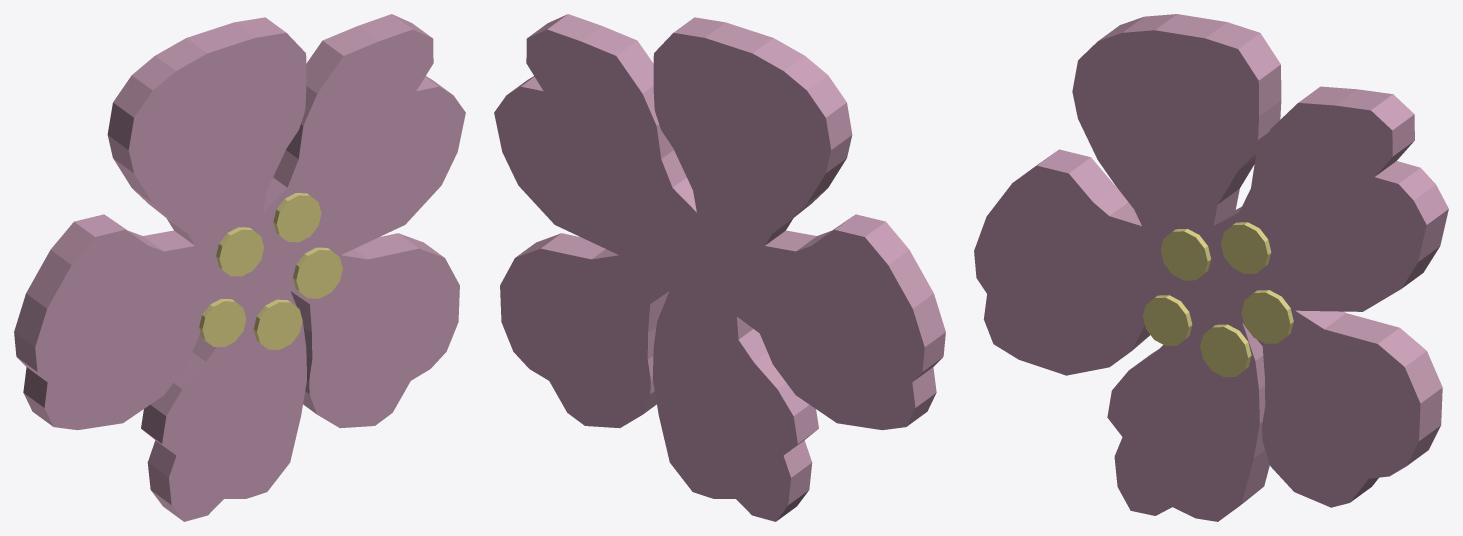
Rendered from Sakura_1.fbx.
3 views of the same model, side by side, from view 1: azimuth 30°, elevation 25°; view 2: azimuth 150°, elevation 25°; view 3: azimuth 330°, elevation 25° (orthographic). The views are drawn at different scales.
Parts seen in each view (by area): view 1: pPlane6, pCylinder3, pCylinder4, pCylinder1, pCylinder2, pCylinder5; view 2: pPlane6; view 3: pPlane6, pCylinder3, pCylinder4, pCylinder2, pCylinder1, pCylinder5.
Part boxes in pixels (bbox=[...]): pPlane6: bbox=[14, 14, 465, 521]; pCylinder3: bbox=[293, 247, 342, 298]; pCylinder4: bbox=[253, 299, 302, 349]; pCylinder1: bbox=[216, 227, 264, 276]; pCylinder2: bbox=[273, 193, 321, 242]; pCylinder5: bbox=[199, 299, 246, 347]; pPlane6: bbox=[494, 14, 945, 521]; pPlane6: bbox=[974, 14, 1448, 521]; pCylinder3: bbox=[1241, 290, 1293, 343]; pCylinder4: bbox=[1200, 324, 1251, 377]; pCylinder2: bbox=[1221, 222, 1271, 273]; pCylinder1: bbox=[1160, 228, 1211, 280]; pCylinder5: bbox=[1143, 295, 1192, 345].
Bounding box in the file's own units: 0.8937 × 0.9255 × 0.088.
